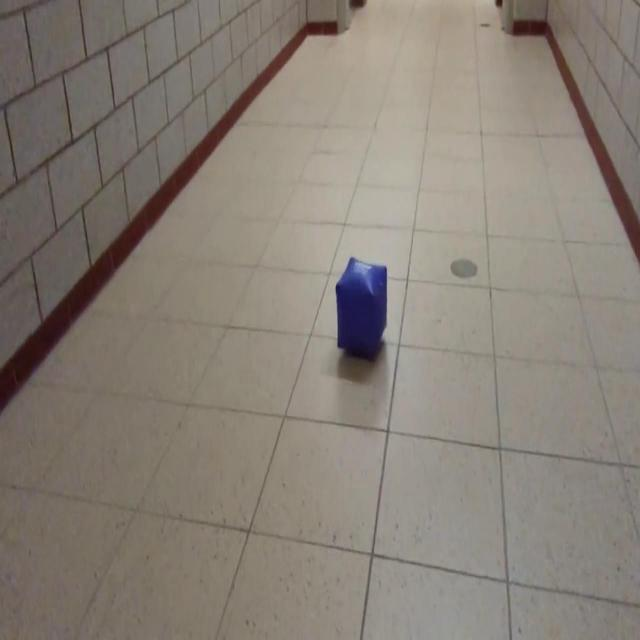frc_cube: (334, 248, 390, 364)
